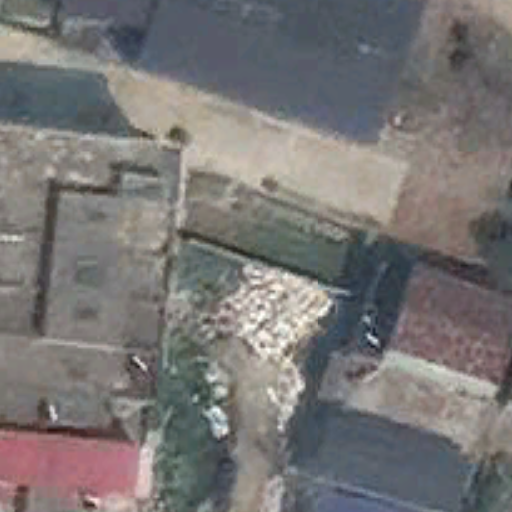msw: (224, 261, 336, 428)
